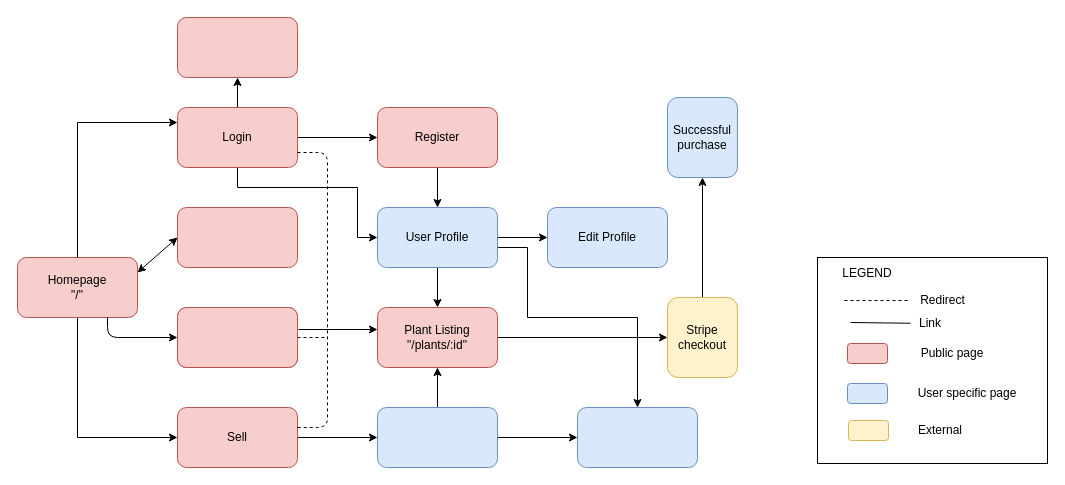
The diagram is 1065 pixels wide and 485 high, and some of its shapes have lost their labels. The centre of each missing label's shape, as x and y in pixels:
Create listing "plants: [437,437]
Edit listing: [637,437]
Forgot password: [237,47]
Home "/": [237,237]
Shop "/plants": [237,337]
